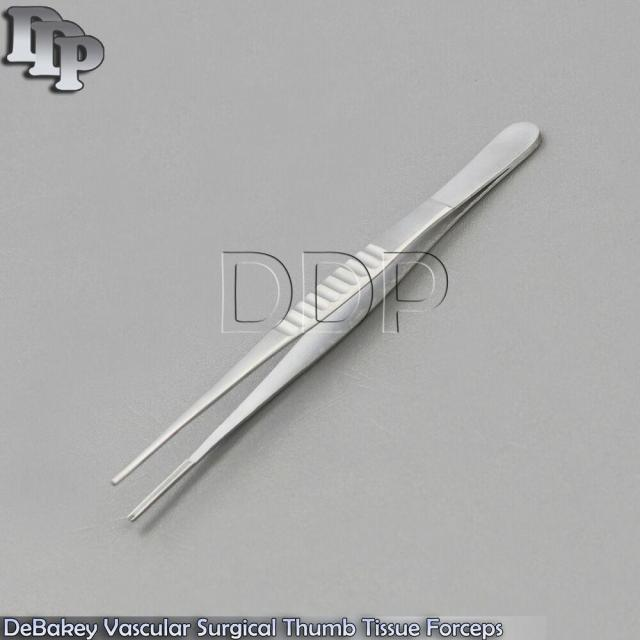Forceps: (108, 114, 548, 532)
